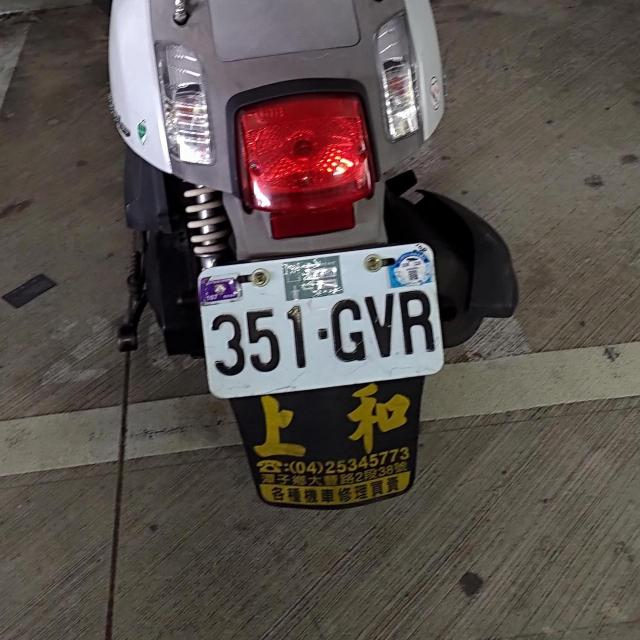W: (190, 240, 452, 404)
